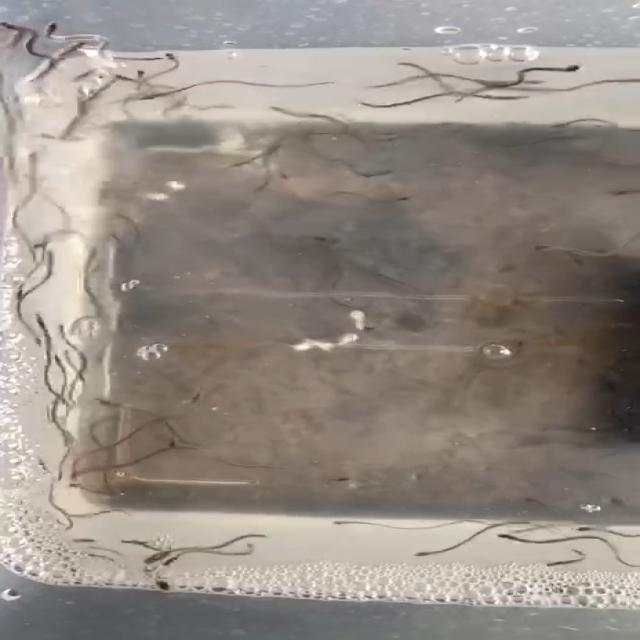inactive_glass_eel: (90, 389, 126, 417), (151, 430, 188, 456), (491, 335, 538, 354), (172, 391, 213, 411), (525, 232, 561, 254), (401, 545, 436, 566), (153, 49, 193, 67), (592, 185, 633, 201), (155, 557, 196, 572), (2, 282, 32, 302), (491, 261, 522, 280), (551, 56, 582, 74), (304, 230, 336, 247), (147, 550, 180, 566), (60, 41, 90, 58), (389, 56, 420, 72), (38, 21, 71, 36), (0, 16, 27, 34), (333, 520, 363, 536), (486, 531, 518, 546), (48, 323, 81, 336), (124, 69, 162, 80), (24, 312, 50, 328), (372, 166, 392, 183), (571, 524, 596, 536), (48, 358, 70, 370), (394, 195, 411, 202)
